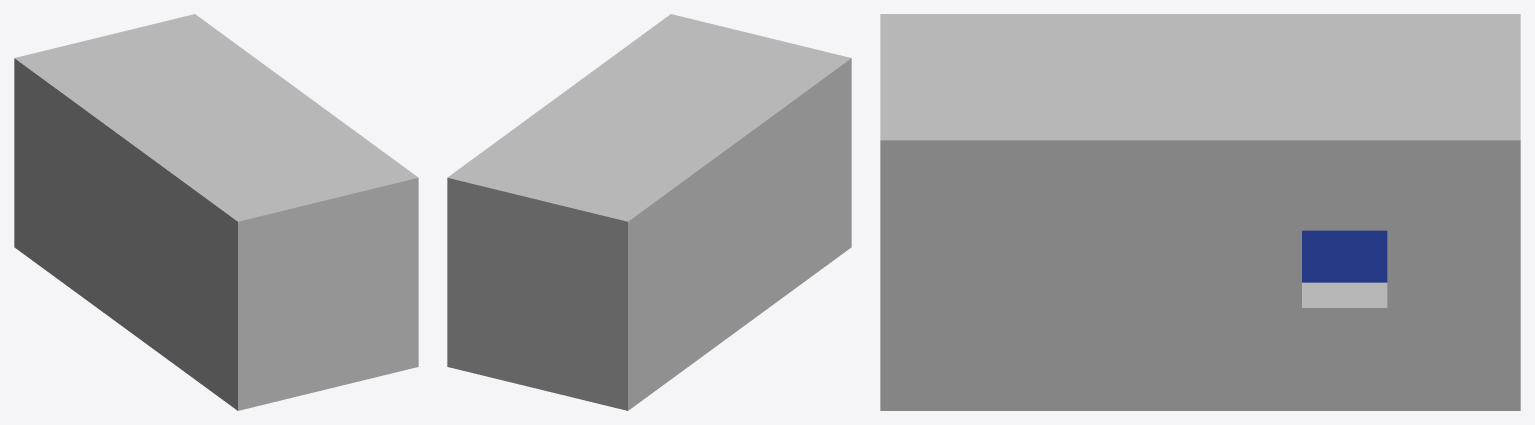
File: cornellbox.obj
3 views of the same model, side by side, from view 1: azimuth 30°, elevation 25°; view 2: azimuth 150°, elevation 25°; view 3: azimuth 270°, elevation 25° (orthographic). The views are drawn at different scales.
Visible parts, largest first — view 1: Cube; view 2: Cube; view 3: Cube.
Boxes of the visible parts, x1,y1,x2,y2 form: Cube: (14, 14, 418, 410); Cube: (447, 14, 851, 410); Cube: (880, 14, 1520, 410).
Size of the model in its own units: 14 by 14 by 30.
